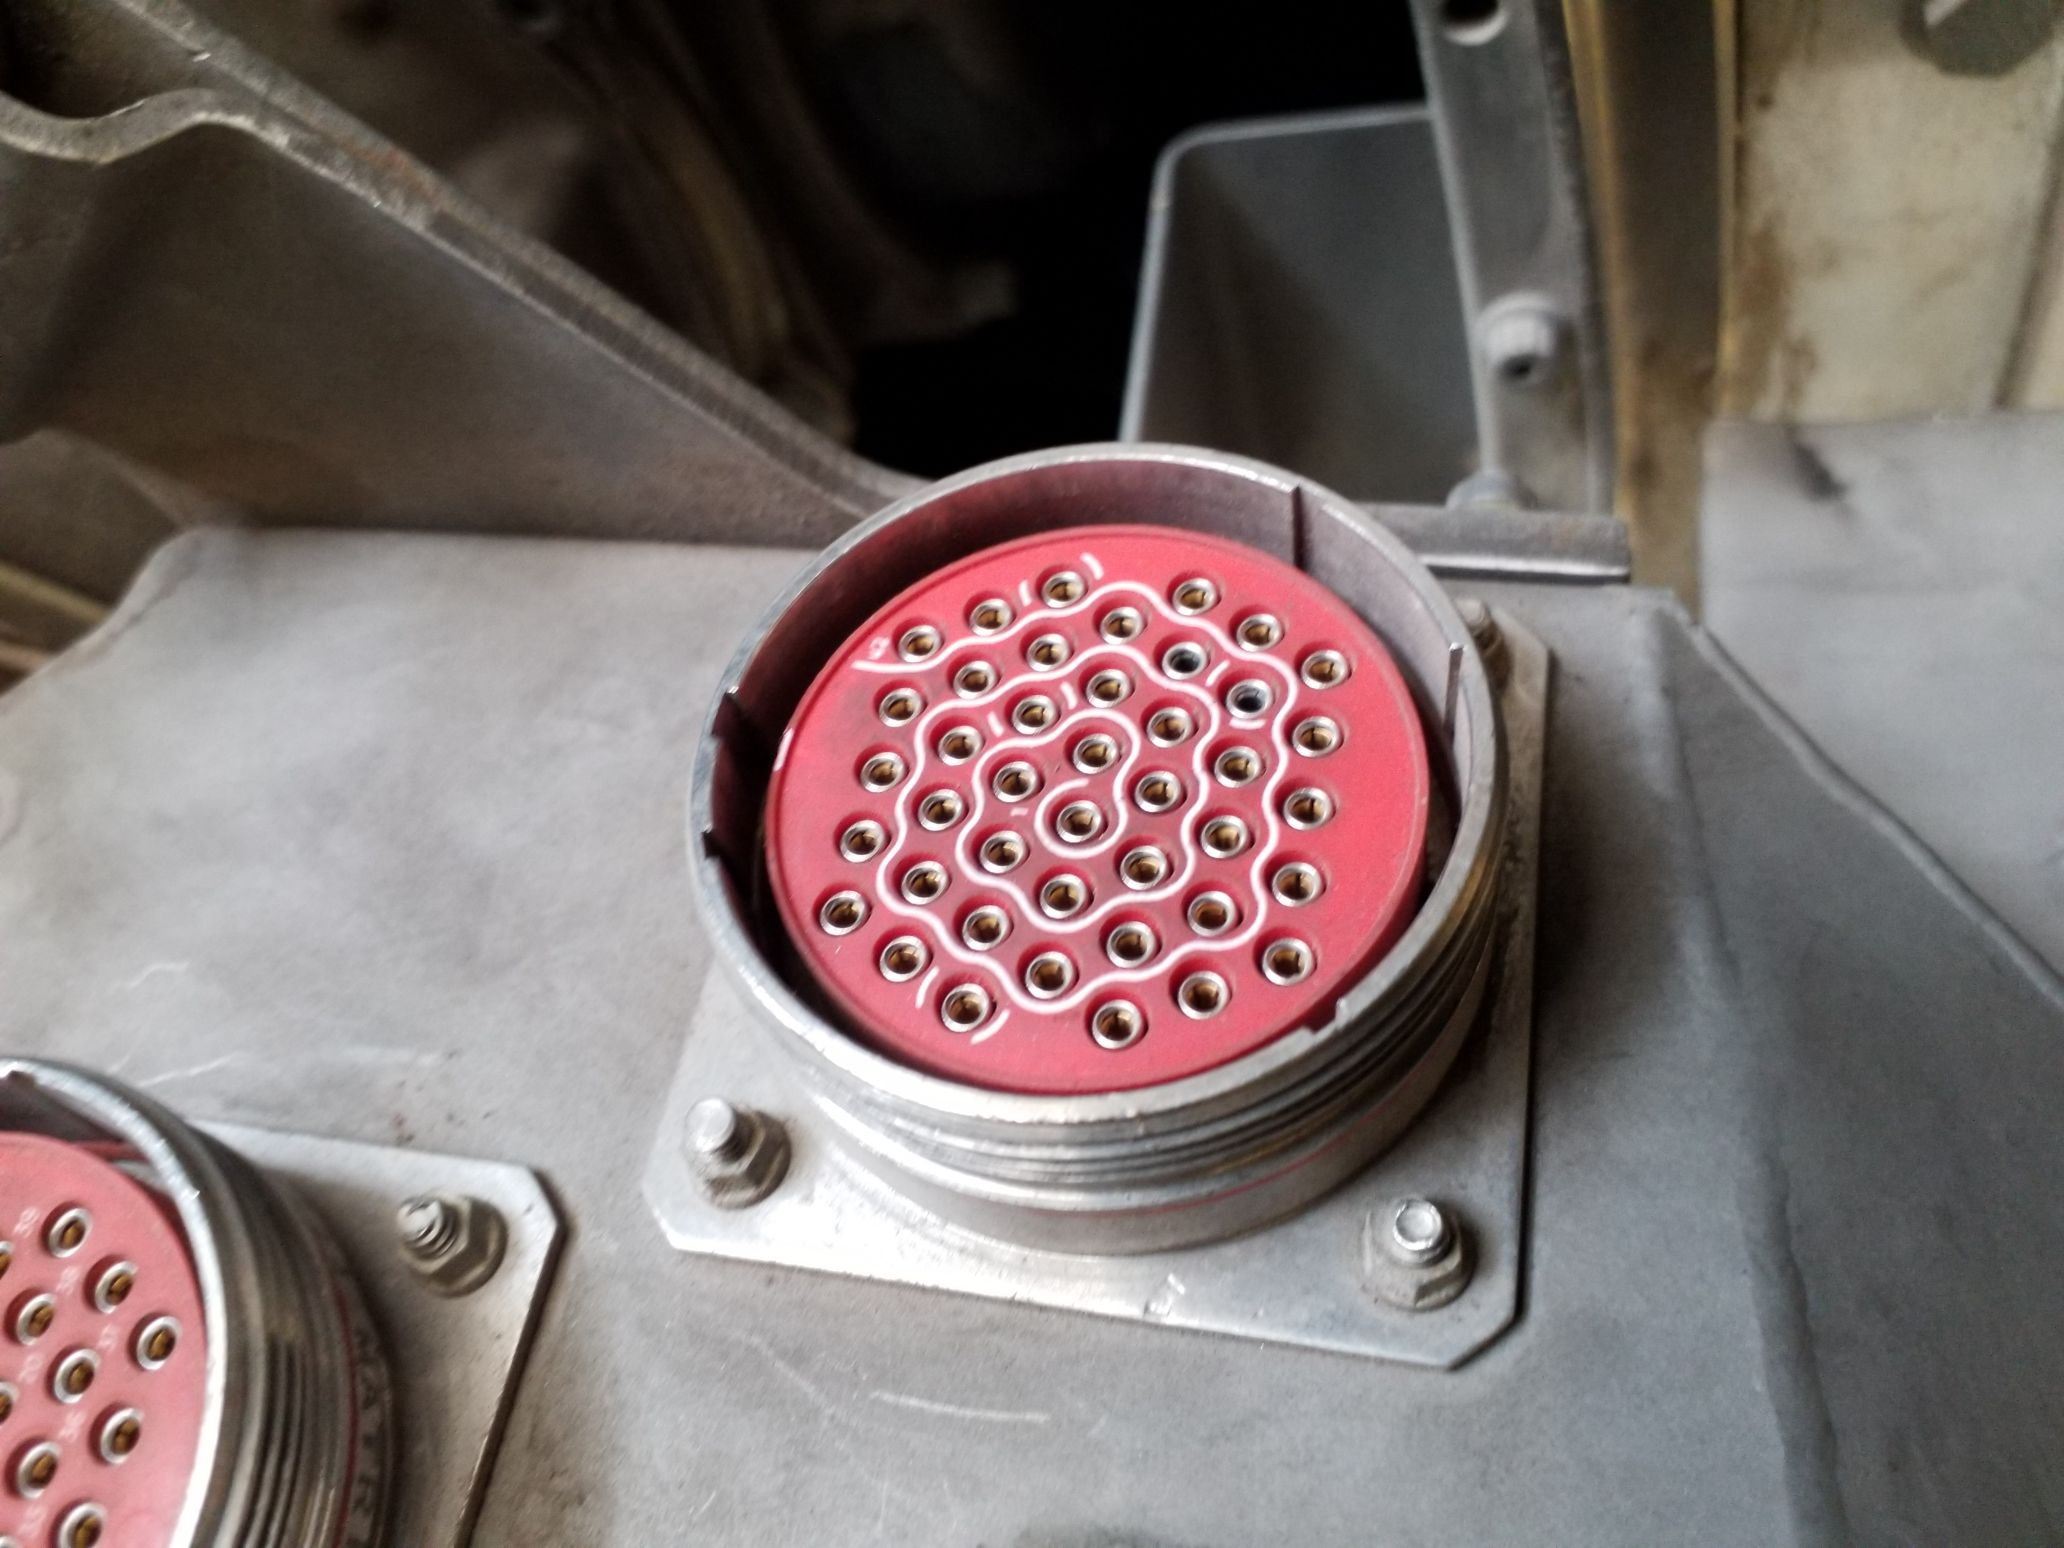inletround: (687, 428, 1520, 1143)
